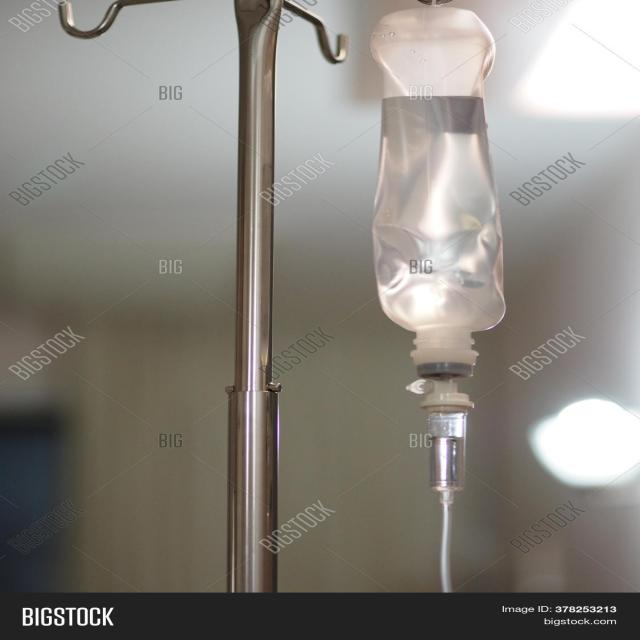B3: (363, 0, 523, 357)
